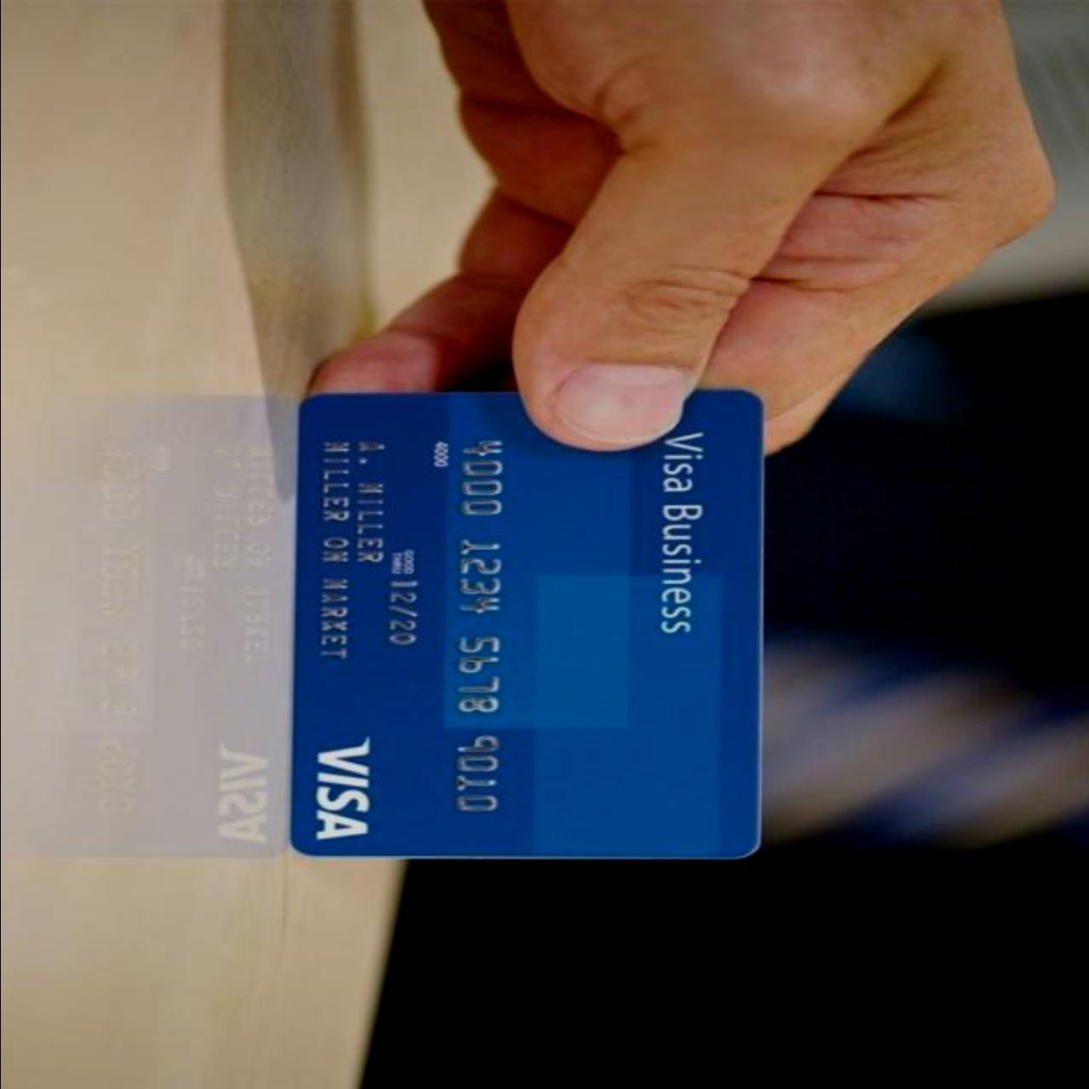credit_card: (279, 385, 766, 871)
